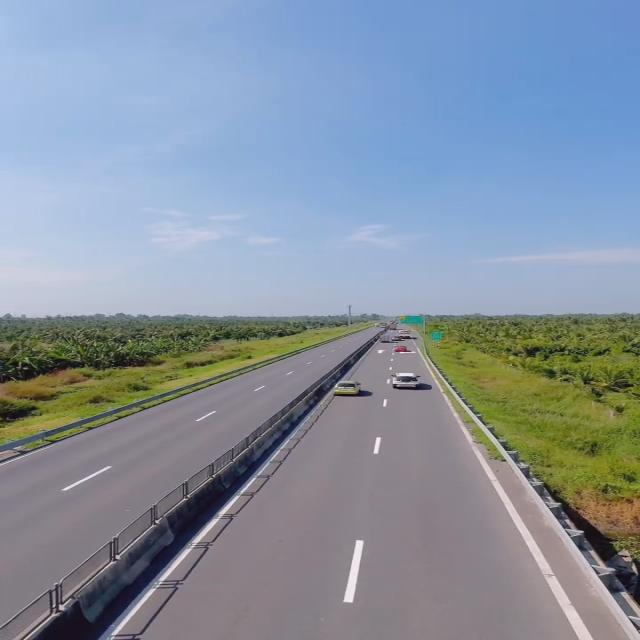car: (386, 368, 425, 389), (329, 376, 363, 395)
